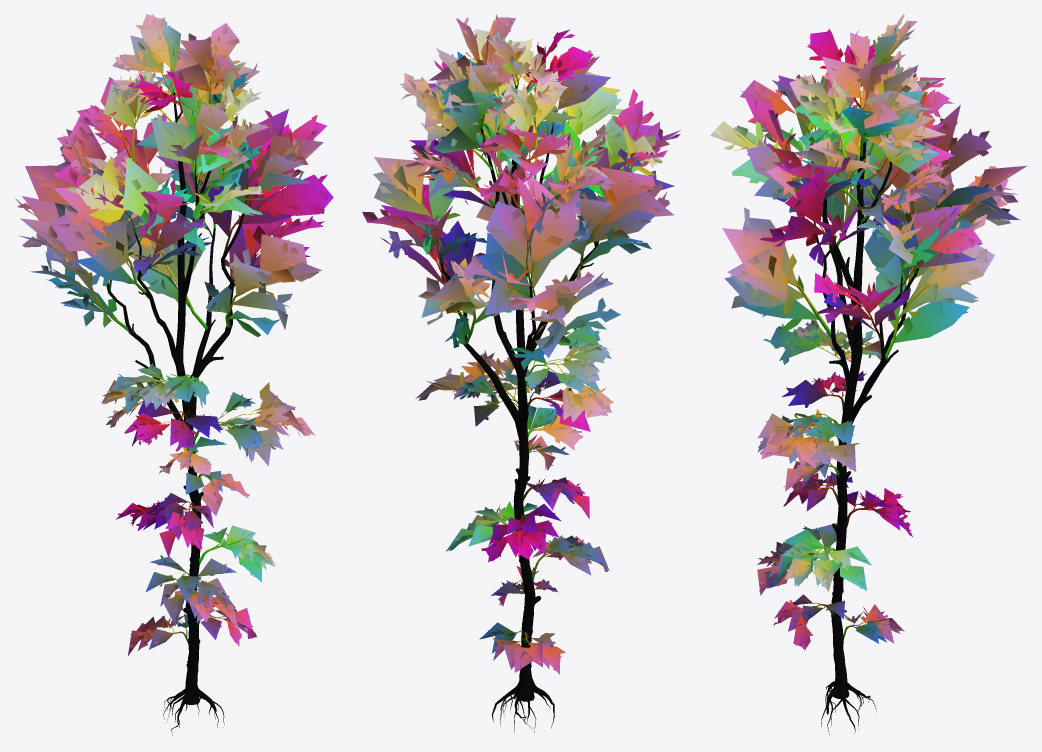
File: SM_EuropeanBeech_XL_03.fbx
3 renders of one model, left to right at view 1: azimuth 30°, elevation 25°; view 2: azimuth 150°, elevation 25°; view 3: azimuth 270°, elevation 25°, orthographic. The views are drawn at different scales.
Parts seen in each view (by area): view 1: SM_EuropeanBeech_XL_03_LOD0; view 2: SM_EuropeanBeech_XL_03_LOD0; view 3: SM_EuropeanBeech_XL_03_LOD0.
Part boxes in pixels (x1,y1,x2,y2): SM_EuropeanBeech_XL_03_LOD0: (15,14,333,735); SM_EuropeanBeech_XL_03_LOD0: (362,14,680,732); SM_EuropeanBeech_XL_03_LOD0: (710,14,1027,734).
Bounding box in the file's own units: 992 × 1009 × 2459.
